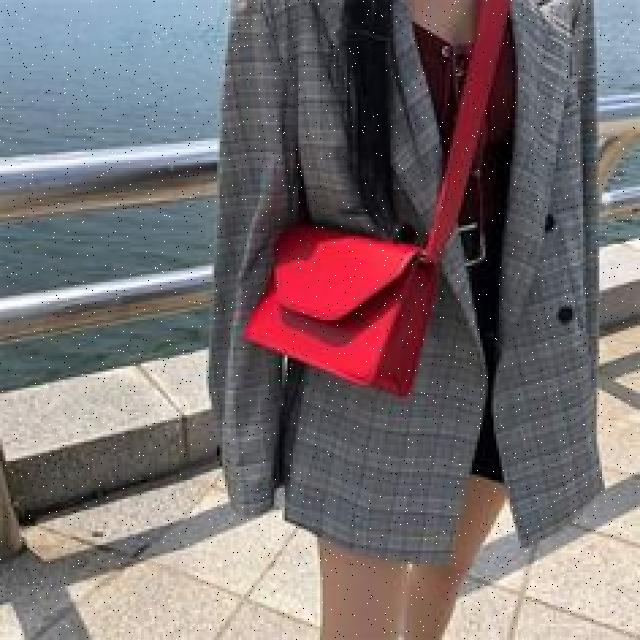handbag: (240, 227, 445, 402)
